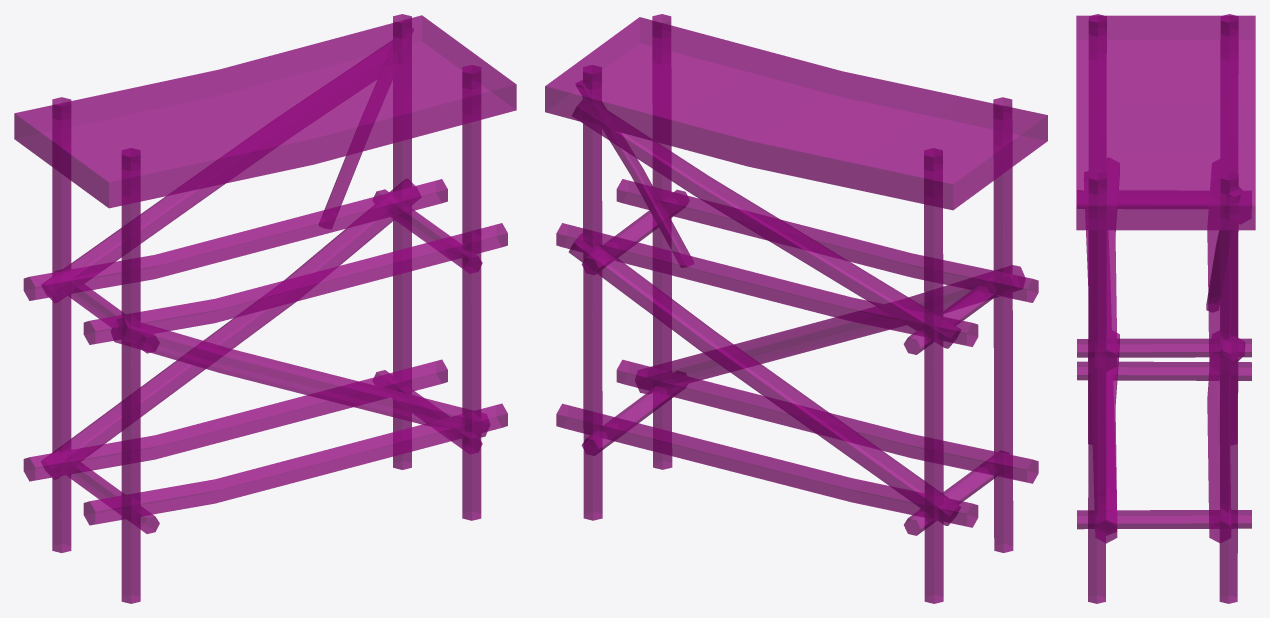
Rendered from SM_Prop_Scaffolding_03_Collision.fbx.
3 renders of one model, left to right at view 1: azimuth 30°, elevation 25°; view 2: azimuth 150°, elevation 25°; view 3: azimuth 270°, elevation 25°, orthographic. The views are drawn at different scales.
Parts seen in each view (by area): view 1: SM_Prop_Scaffolding_03_Collision; view 2: SM_Prop_Scaffolding_03_Collision; view 3: SM_Prop_Scaffolding_03_Collision.
Part boxes in pixels (<box>): SM_Prop_Scaffolding_03_Collision: <box>14,14,516,603</box>; SM_Prop_Scaffolding_03_Collision: <box>545,14,1047,603</box>; SM_Prop_Scaffolding_03_Collision: <box>1076,14,1255,603</box>.
Bounding box in the file's own units: 568 × 589 × 226.
